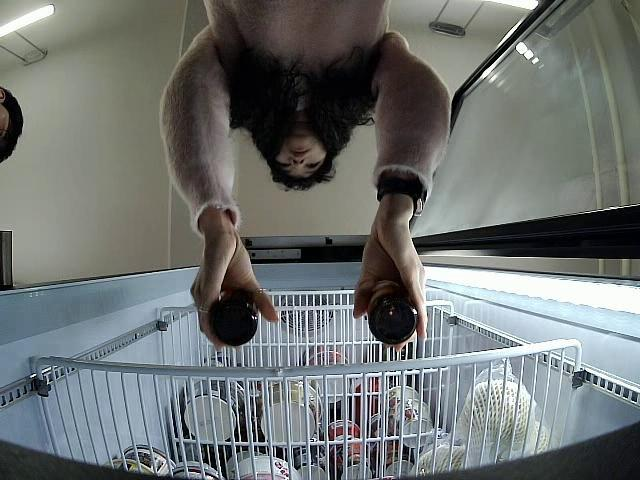17_vita500: (364, 285, 420, 344), (204, 289, 260, 346)
